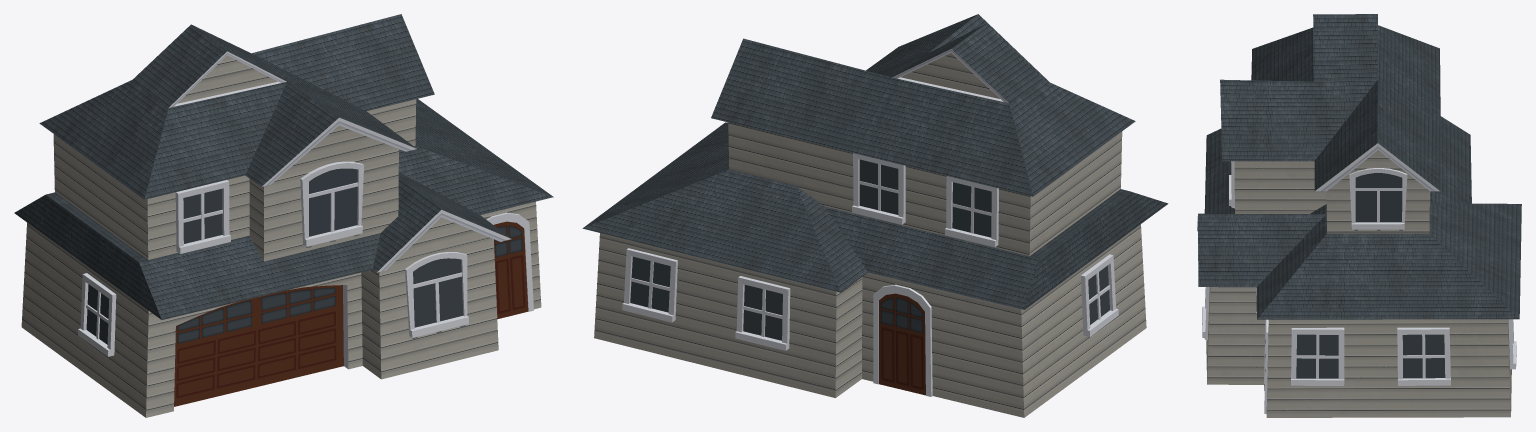
The model's file is HouseNpc2.fbx.
3 views of the same model, side by side, from view 1: azimuth 30°, elevation 25°; view 2: azimuth 150°, elevation 25°; view 3: azimuth 270°, elevation 25° (orthographic). The views are drawn at different scales.
Visible parts, largest first — view 1: Sketchfab Model; view 2: Sketchfab Model; view 3: Sketchfab Model.
Part boxes in pixels (x1,y1,x2,y2): Sketchfab Model: [14, 14, 553, 417]; Sketchfab Model: [582, 14, 1168, 417]; Sketchfab Model: [1197, 14, 1521, 417].
Size of the model in its own units: 1173 by 818 by 868.
Materials: 1 (1 with a texture image).
